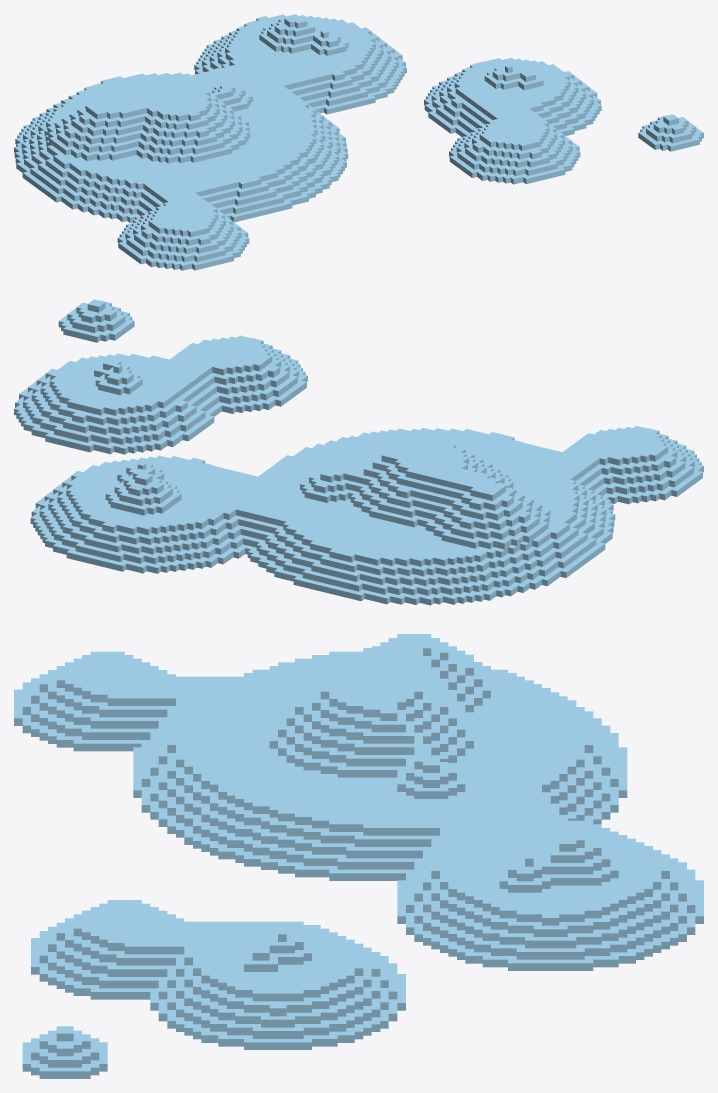
File: Snow_Environment_Deco_Tile_03-3.obj
3 renders of one model, top to bottom at view 1: azimuth 30°, elevation 25°; view 2: azimuth 150°, elevation 25°; view 3: azimuth 270°, elevation 25°, orthographic. The views are drawn at different scales.
Parts seen in each view (by area): view 1: Snow_Environment_Deco_Tile_03-3; view 2: Snow_Environment_Deco_Tile_03-3; view 3: Snow_Environment_Deco_Tile_03-3.
Boxes of the visible parts, x1,y1,x2,y2 form: Snow_Environment_Deco_Tile_03-3: (14,14,703,270); Snow_Environment_Deco_Tile_03-3: (14,299,703,605); Snow_Environment_Deco_Tile_03-3: (14,634,703,1078).
Bounding box in the file's own units: 113 × 11 × 81.
1 material, 1 textured.
